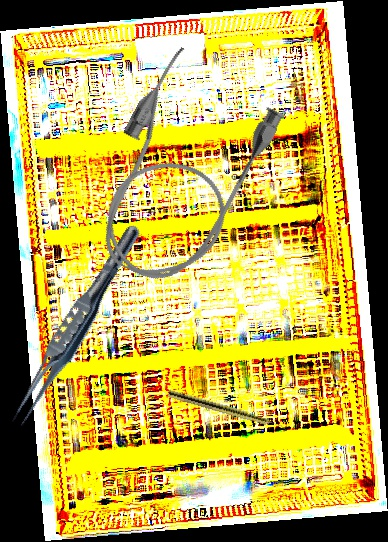Cannula: (69, 41, 291, 301)
Handpiece: (167, 389, 289, 433)
Tissue Forceps: (3, 217, 147, 436)
